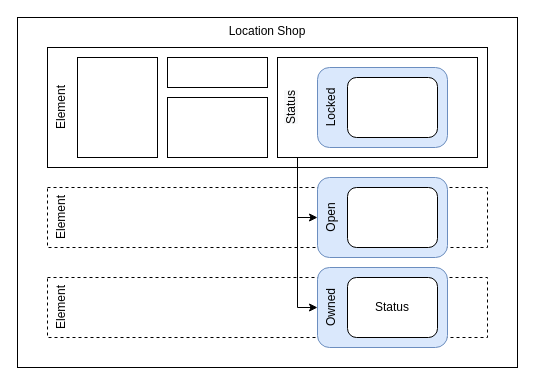
This 535x385 diagram has some shape labels left out. Each missing label, with the centre of its shape:
Description: (217,127)
Icon: (117,107)
Price: (392,217)
Title: (217,72)
Сondition: (392,107)
